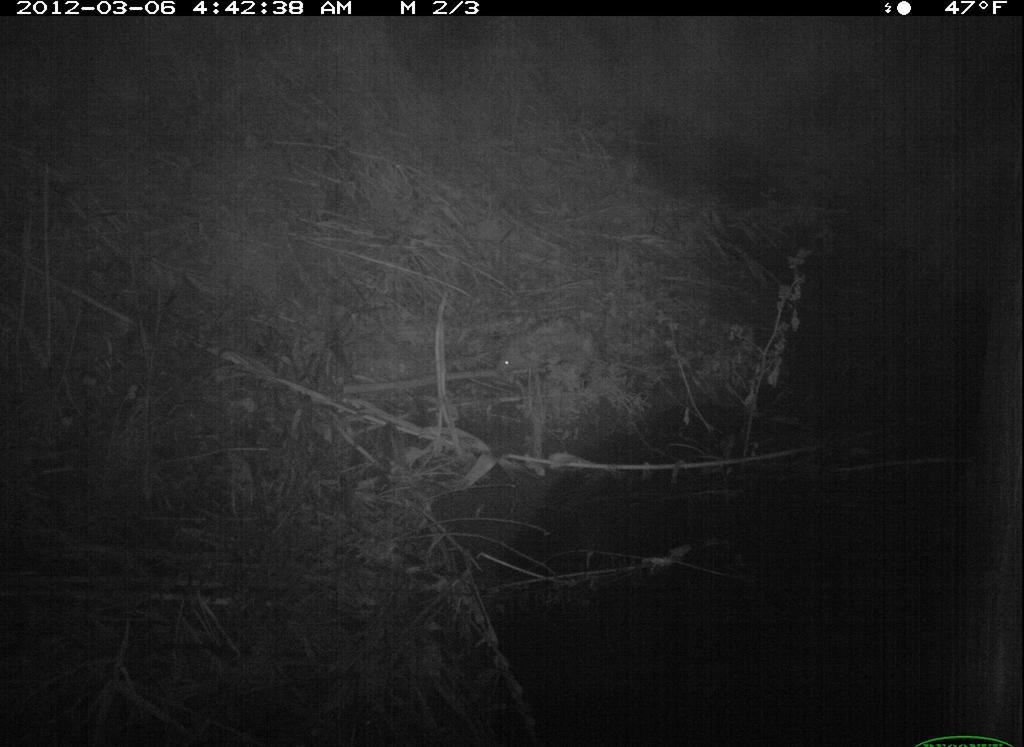opossum: (486, 312, 625, 388)
